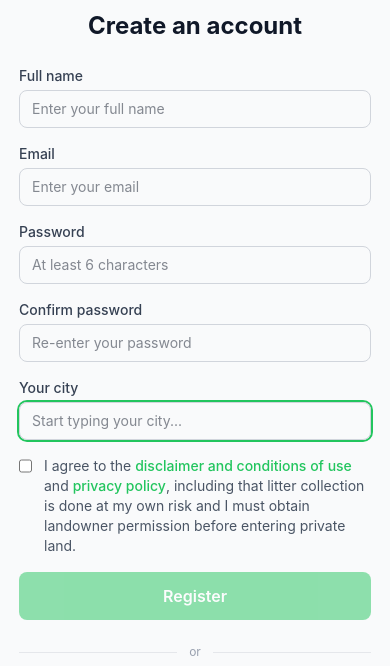
Scenario: Register › register button is enabled after accepting terms and selecting city
In the field with placeholder "Start typing your city...": (195, 421) [19,402,371,440], type "Lon"
Wait 300 ms
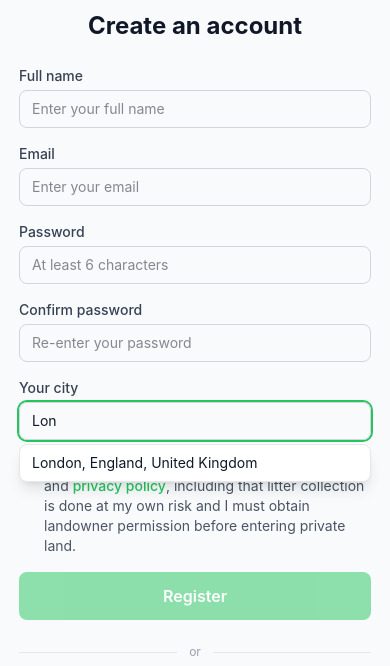
Click the button "London, England, United Kingdom": click(195, 463) [20,445,370,481]
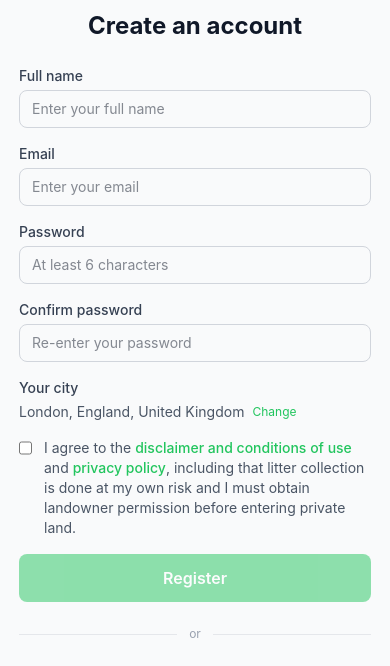
Click the checkbox: click(26, 448) [19,440,32,456]
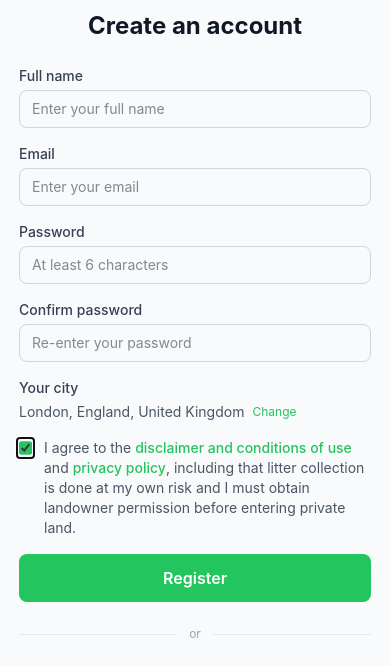
Result: the button "Register" is enabled at [19,554,371,602]
